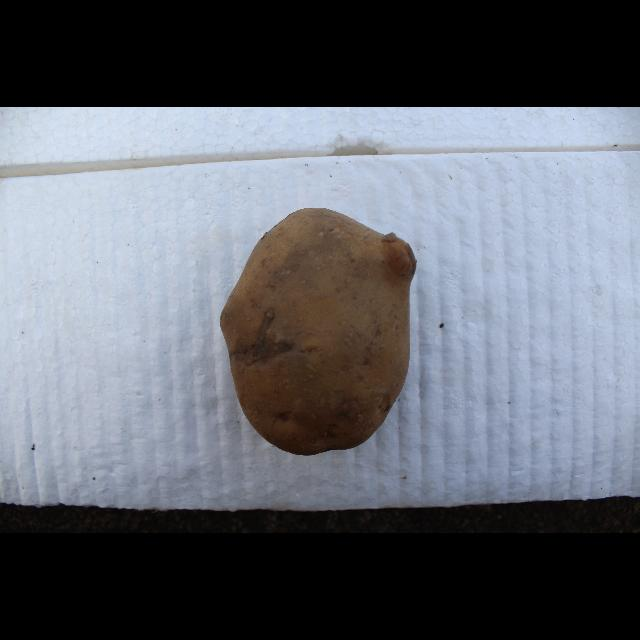Diseased-fungal potato: (210, 200, 420, 460)
